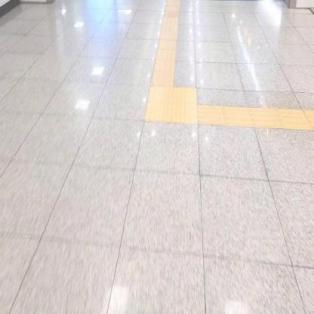Podoctatil: (135, 62, 209, 140), (198, 104, 314, 131), (150, 1, 181, 85)
